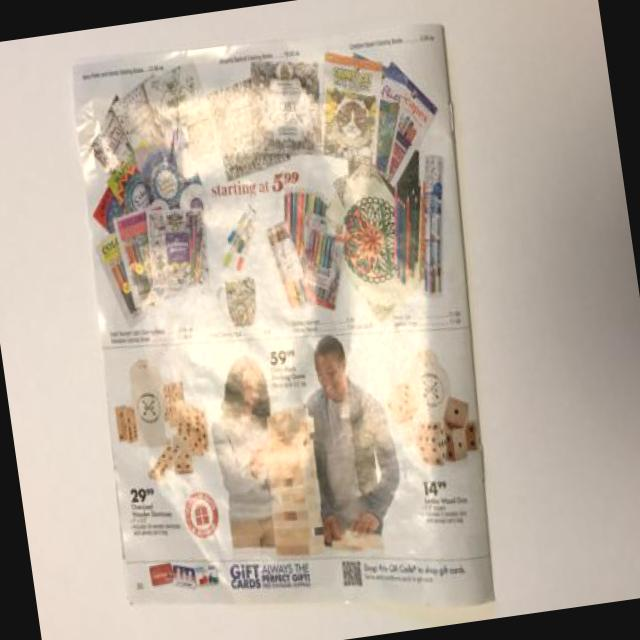paper: (73, 26, 496, 618)
